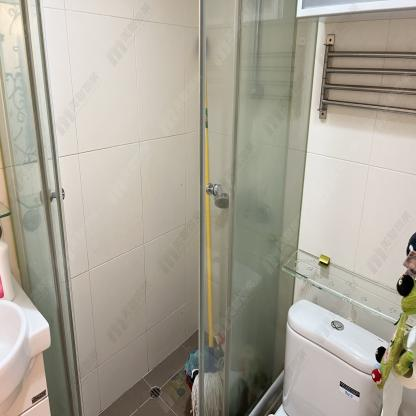Toilet: (271, 300, 389, 415)
